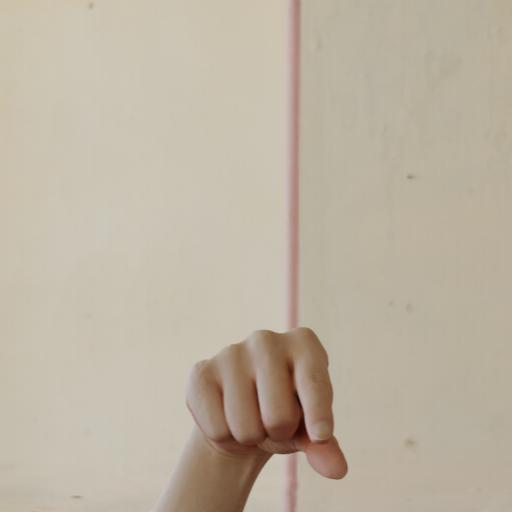Q: (182, 322, 353, 488)
